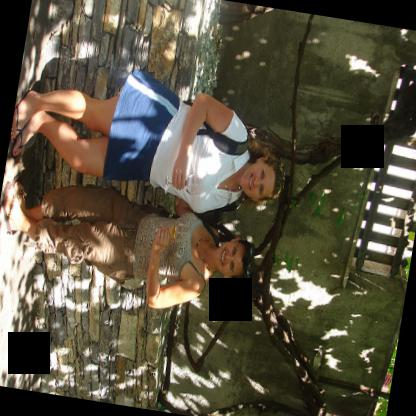backpack: (196, 120, 247, 215)
